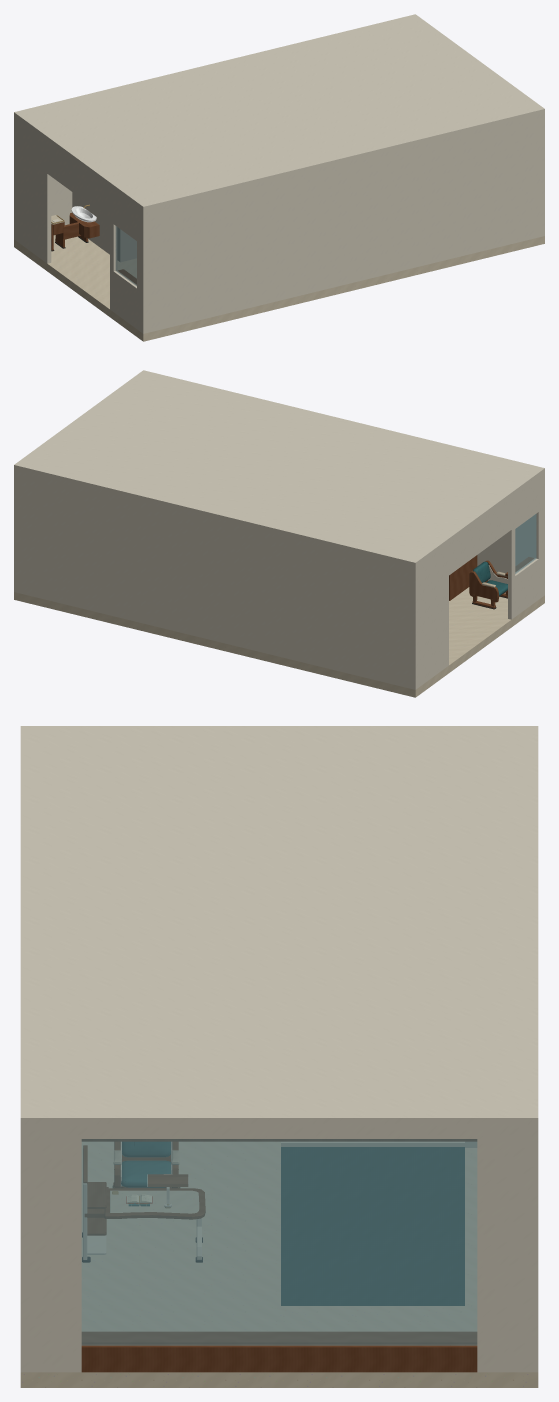
The model's file is QuietGroveSpecialty_153_r001.glb.
3 views of the same model, one above another, from view 1: azimuth 30°, elevation 25°; view 2: azimuth 150°, elevation 25°; view 3: azimuth 270°, elevation 25° (orthographic). The views are drawn at different scales.
Parts seen in each view (by area): view 1: QG153_Ceiling, QG153_NorthSide, QG153_RoomFloor, QG153_EntryShoulderSouth, QG153_EntryHeader, QG153_StreetWindowLower, QG153_StreetWindowUpper, QG153_SouthSide, QG153_ScreenedStreetGlass, QG153_WashEntrySide, QG153_QG153_WashBasin__VAN_WallCabinet; view 2: QG153_Ceiling, QG153_SouthSide, QG153_RoomFloor, QG153_EntryShoulderSouth, QG153_EntryHeader, QG153_NorthSide, QG153_StreetWindowLower, QG153_StreetWindowUpper, QG153_ScreenedStreetGlass, QG153_EntryPrivacyDogleg, QG153_QG153_StreetReadingChair__DAY_CHAIR_L_swept_walnut_che; view 3: QG153_Ceiling, QG153_CourtPanoramicGlass, QG153_RoomFloor, QG153_Cocoon01_RearLiner, QG153_CourtJambNorth, QG153_CourtJambSouth, QG153_CourtSill, QG153_CourtHeader, QG153_CourtRevealBottom, QG153_NorthSide, QG153_SouthSide, QG153_QG153_LibraryStudyEdge__SINGLE_inset_stone_writing_sur (+4 smaller).
Part boxes in pixels (box(x1,y1,x2,y2)): QG153_Ceiling: box(14, 14, 544, 211); QG153_NorthSide: box(141, 114, 544, 333); QG153_RoomFloor: box(14, 235, 544, 341); QG153_EntryShoulderSouth: box(16, 119, 51, 263); QG153_EntryHeader: box(46, 142, 110, 219); QG153_StreetWindowLower: box(110, 269, 141, 331); QG153_StreetWindowUpper: box(110, 188, 141, 243); QG153_SouthSide: box(14, 117, 72, 240); QG153_ScreenedStreetGlass: box(115, 226, 136, 285); QG153_WashEntrySide: box(72, 192, 123, 261); QG153_QG153_WashBasin__VAN_WallCabinet: box(69, 213, 99, 238); QG153_Ceiling: box(14, 370, 544, 567); QG153_SouthSide: box(14, 470, 417, 689); QG153_RoomFloor: box(14, 587, 544, 697); QG153_EntryShoulderSouth: box(417, 544, 448, 687); QG153_EntryHeader: box(448, 497, 512, 575); QG153_NorthSide: box(477, 473, 544, 596); QG153_StreetWindowLower: box(508, 556, 542, 619); QG153_StreetWindowUpper: box(510, 475, 542, 531); QG153_ScreenedStreetGlass: box(515, 514, 536, 573); QG153_EntryPrivacyDogleg: box(449, 555, 477, 600); QG153_QG153_StreetReadingChair__DAY_CHAIR_L_swept_walnut_che: box(469, 571, 498, 602); QG153_Ceiling: box(20, 726, 538, 1128); QG153_CourtPanoramicGlass: box(81, 1139, 477, 1345); QG153_RoomFloor: box(20, 1142, 538, 1387); QG153_Cocoon01_RearLiner: box(285, 1147, 460, 1305); QG153_CourtJambNorth: box(477, 1124, 538, 1372); QG153_CourtJambSouth: box(20, 1124, 81, 1372); QG153_CourtSill: box(81, 1344, 477, 1372); QG153_CourtHeader: box(81, 1124, 477, 1138); QG153_CourtRevealBottom: box(82, 1332, 476, 1343); QG153_NorthSide: box(20, 1128, 29, 1372); QG153_SouthSide: box(529, 1128, 538, 1372); QG153_QG153_LibraryStudyEdge__SINGLE_inset_stone_writing_sur: box(110, 1191, 198, 1213).
Bounding box in the file's own units: 12.9 × 4.14 × 7.2.
Materials: 64 (49 with a texture image).
